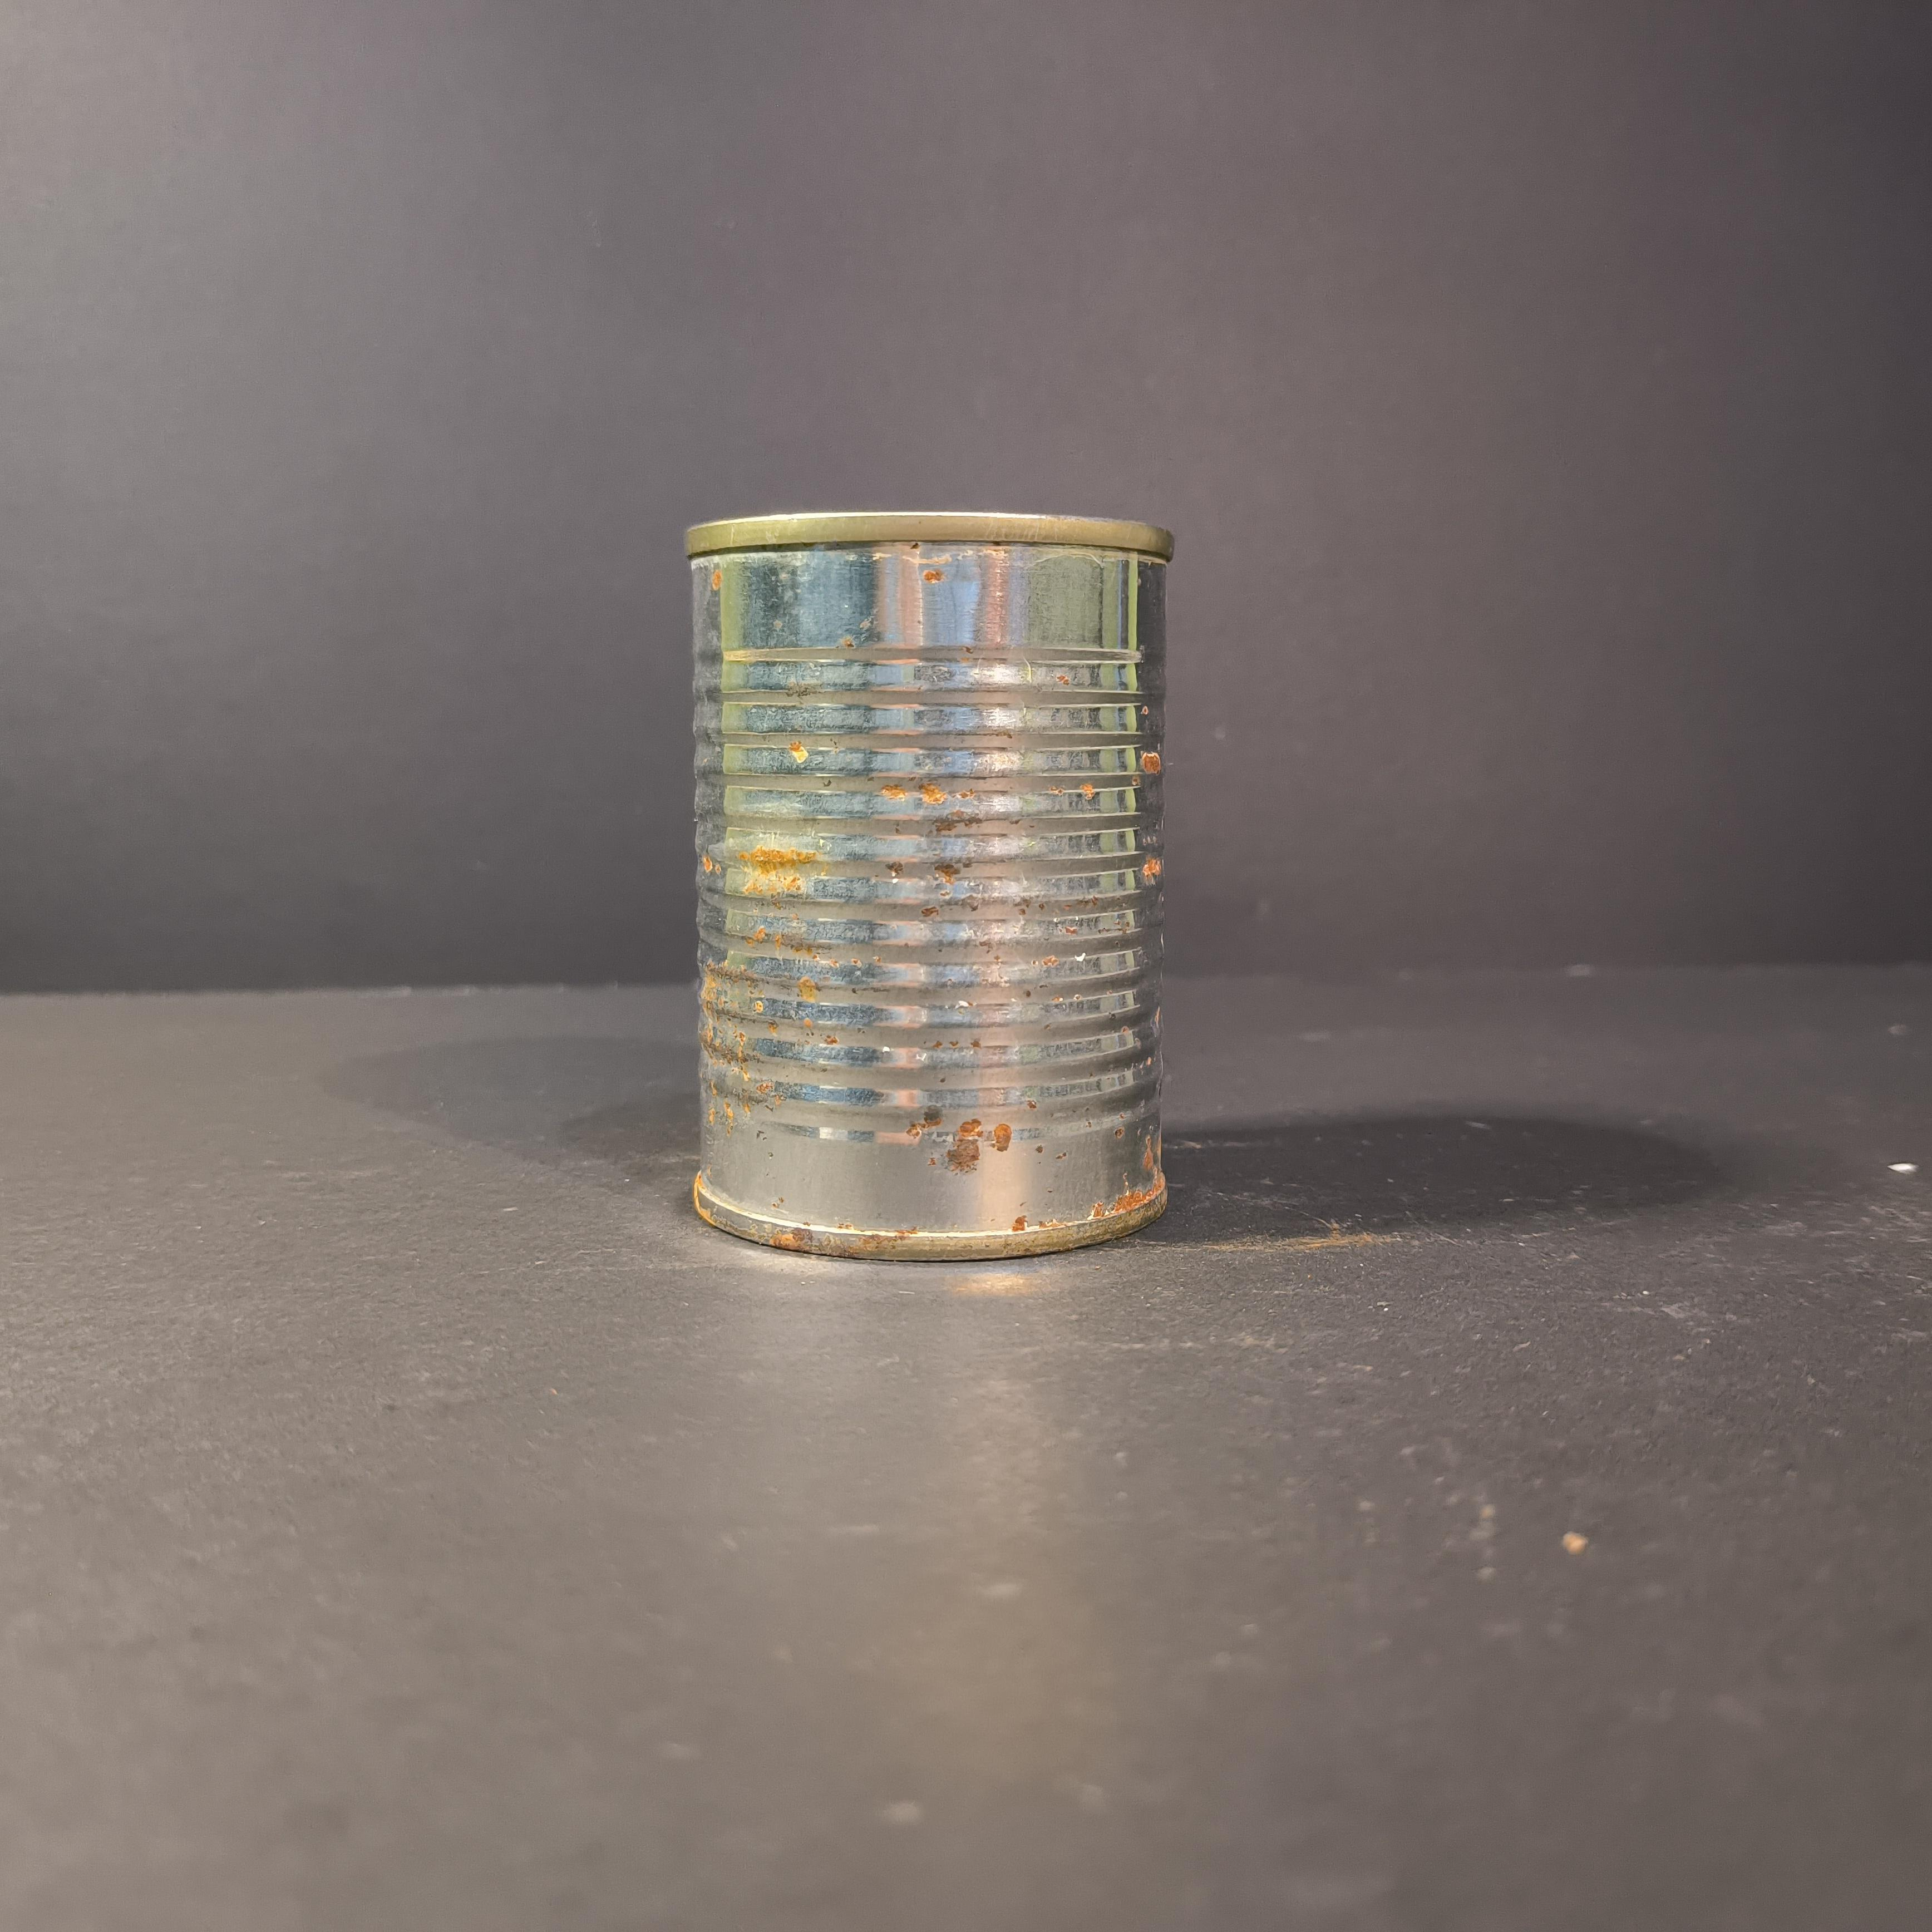Rusted: (667, 485, 1207, 1283)
